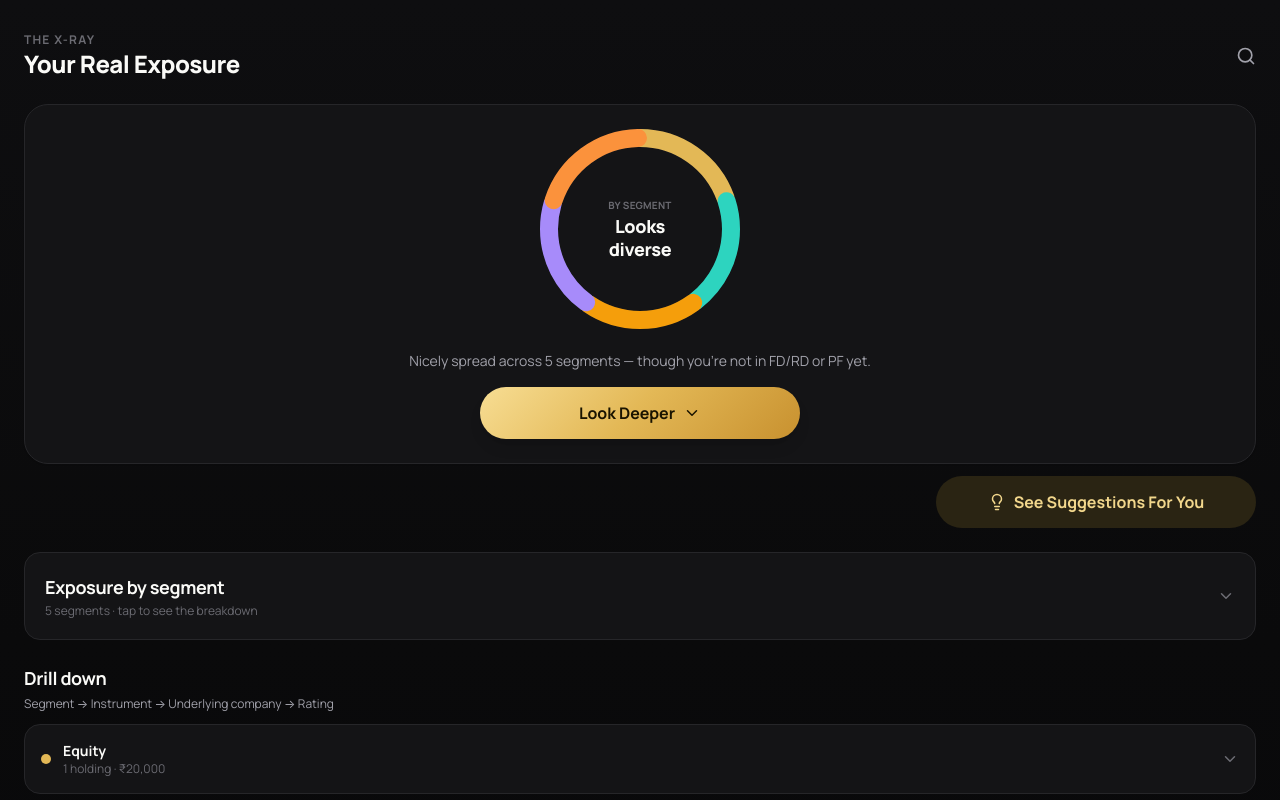
it: XRay — deep view tiers its framing/color to the real top-company exposure › gives a genuine reassurance, no red/amber alarm color, when real concentration is actually low
Click the button with test id "xray-look-deeper-btn". click: (640, 413)
box: left=480, top=387, right=800, bottom=439
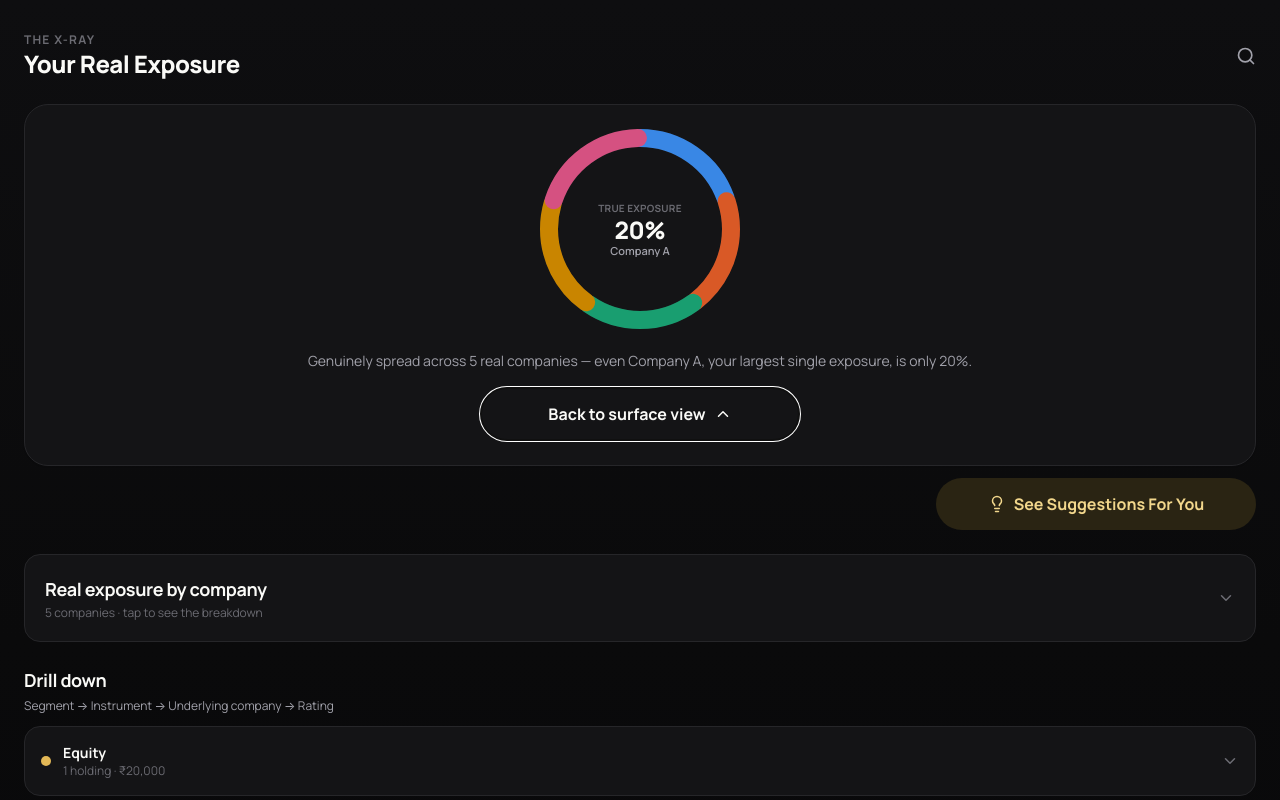
Result: the text with test id "xray-deep-top-pct" reads "20%" at left=615, top=218, right=665, bottom=242
Result: the text with test id "xray-insight-message" shows "Genuinely spread across 5 real companies" at left=308, top=351, right=972, bottom=370
